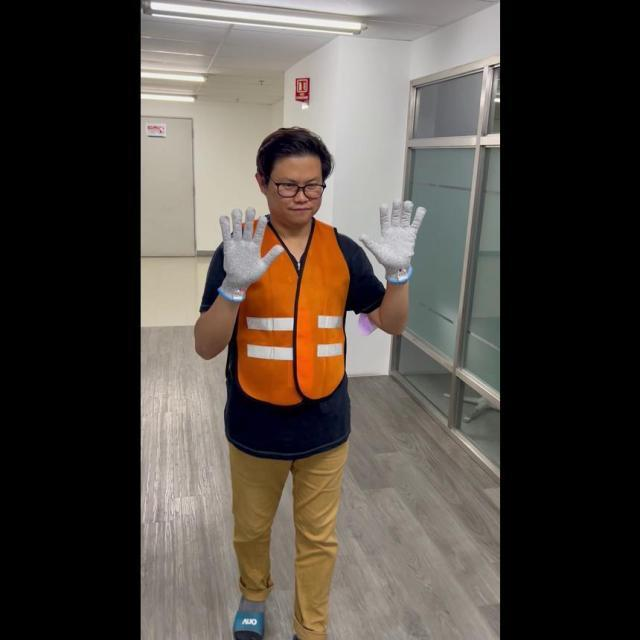gloved_hand: (212, 202, 279, 299), (359, 194, 426, 278)
